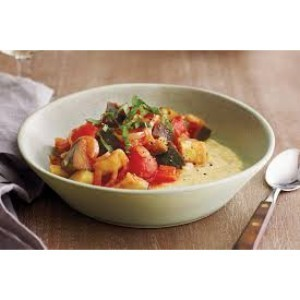cheese_brain food: (180, 123, 246, 188)
